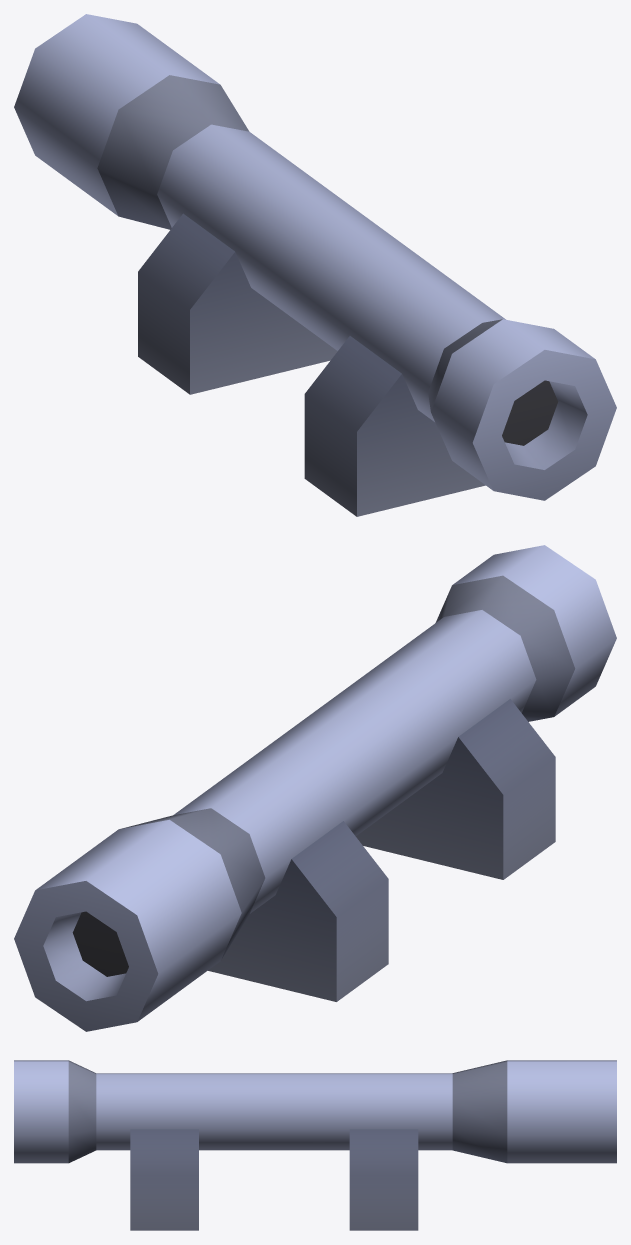
The model's file is scope-large-a.glb.
The picture shows the model from 3 angles, top to bottom: view 1: azimuth 30°, elevation 25°; view 2: azimuth 150°, elevation 25°; view 3: azimuth 270°, elevation 25°; orthographic projection. The views are drawn at different scales.
Parts seen in each view (by area): view 1: scope-large-a; view 2: scope-large-a; view 3: scope-large-a.
Part boxes in pixels (x1,y1,x2,y2): scope-large-a: [14, 14, 616, 516]; scope-large-a: [14, 545, 616, 1031]; scope-large-a: [14, 1060, 616, 1230].
Bounding box in the file's own units: 0.11 × 0.11 × 0.44.
Materials: 1 (1 with a texture image).
